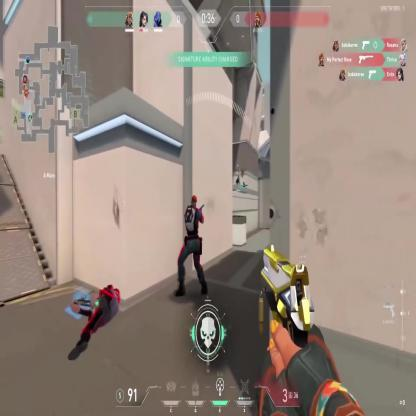enemy: (176, 194, 209, 298)
enemy_head: (190, 196, 198, 209)
